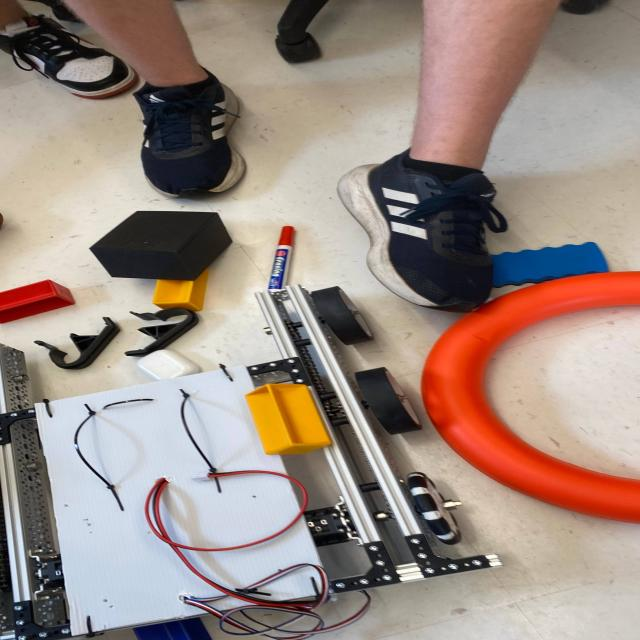blue-specimen: (133, 618, 211, 640)
red-specimen: (0, 280, 75, 324)
yellow-specimen: (245, 383, 331, 455), (152, 268, 209, 311)
